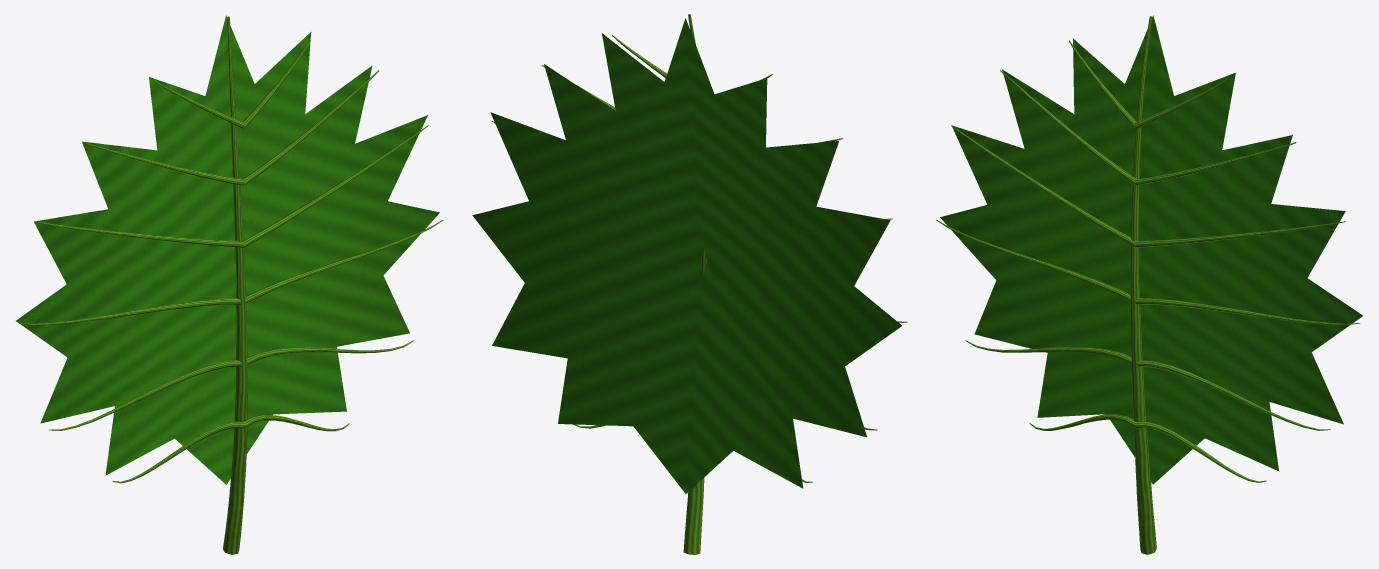
The model's file is deku_leaf.glb.
The picture shows the model from 3 angles, left to right: view 1: azimuth 30°, elevation 25°; view 2: azimuth 150°, elevation 25°; view 3: azimuth 330°, elevation 25°; orthographic projection.
Parts seen in each view (by area): view 1: Cambered leaf, Leaf vein (×10), Central stem; view 2: Leaf underside, Central stem; view 3: Cambered leaf, Leaf vein (×10), Central stem.
Part boxes in pixels (x1,y1,x2,y2): Cambered leaf: (16,15,439,484); Leaf vein (×10): (19,70,443,483); Central stem: (223,16,247,554); Leaf underside: (472,18,901,493); Central stem: (683,14,706,554); Cambered leaf: (940,15,1362,484); Leaf vein (×10): (936,70,1360,482); Central stem: (1130,16,1156,554).
Bounding box in the file's own units: 112 × 134 × 10.97.
2 materials, 2 textured.
